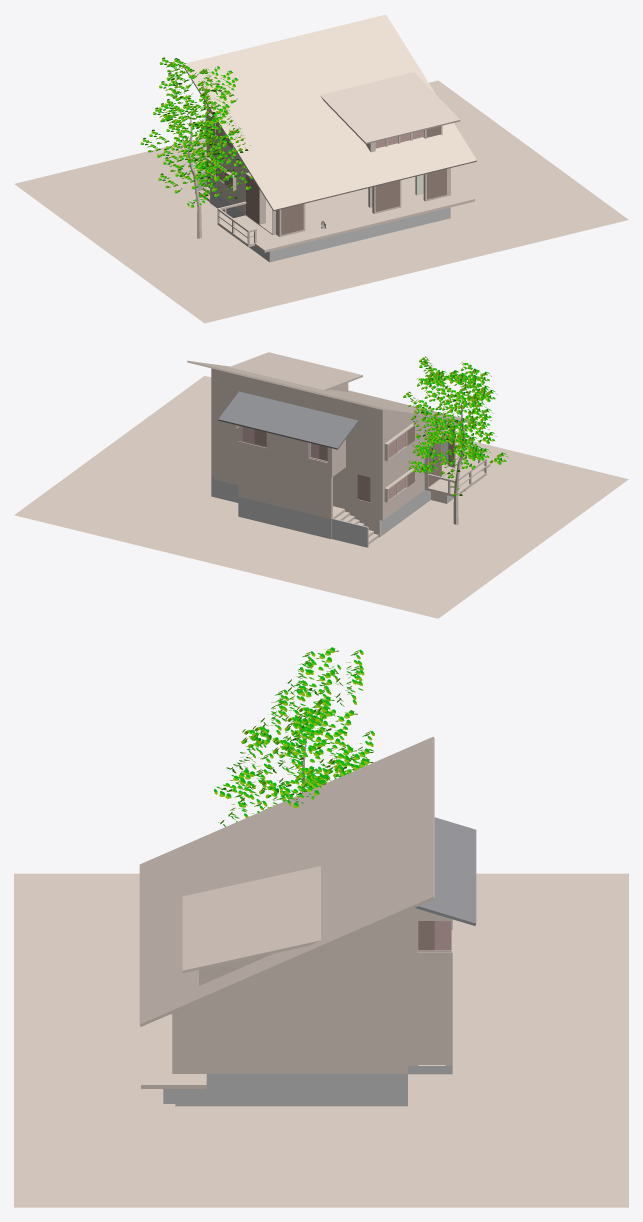
File: 346e414b-ae92-45bf-bbfd-30a5f78ff0d1.glb
The picture shows the model from 3 angles, top to bottom: view 1: azimuth 30°, elevation 25°; view 2: azimuth 150°, elevation 25°; view 3: azimuth 270°, elevation 25°; orthographic projection. The views are drawn at different scales.
Bounding box in the file's own units: 1043 × 407 × 812.
